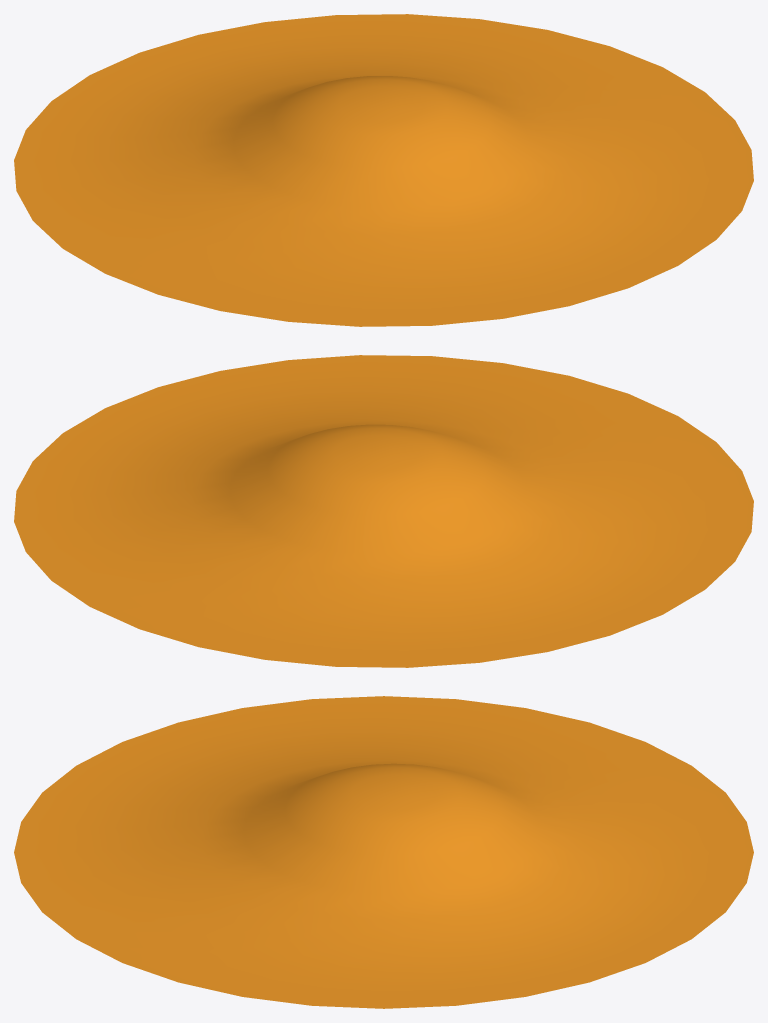
Rendered from tophihat.fbx.
3 views of the same model, one above another, from view 1: azimuth 30°, elevation 25°; view 2: azimuth 150°, elevation 25°; view 3: azimuth 270°, elevation 25° (orthographic).
Parts seen in each view (by area): view 1: Circle.002; view 2: Circle.002; view 3: Circle.002.
Part boxes in pixels (x1,y1,x2,y2): Circle.002: (14, 14, 753, 326); Circle.002: (14, 355, 753, 667); Circle.002: (14, 696, 753, 1008).
Size of the model in its own units: 30 by 2.83 by 30.
